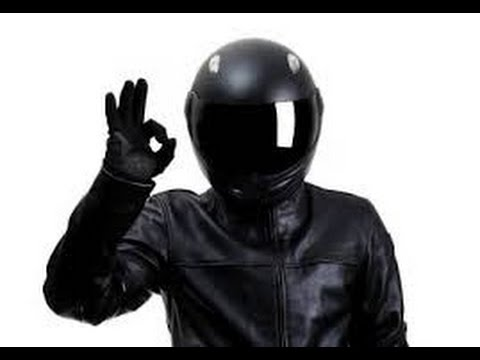with_helmet: (182, 34, 332, 213)
